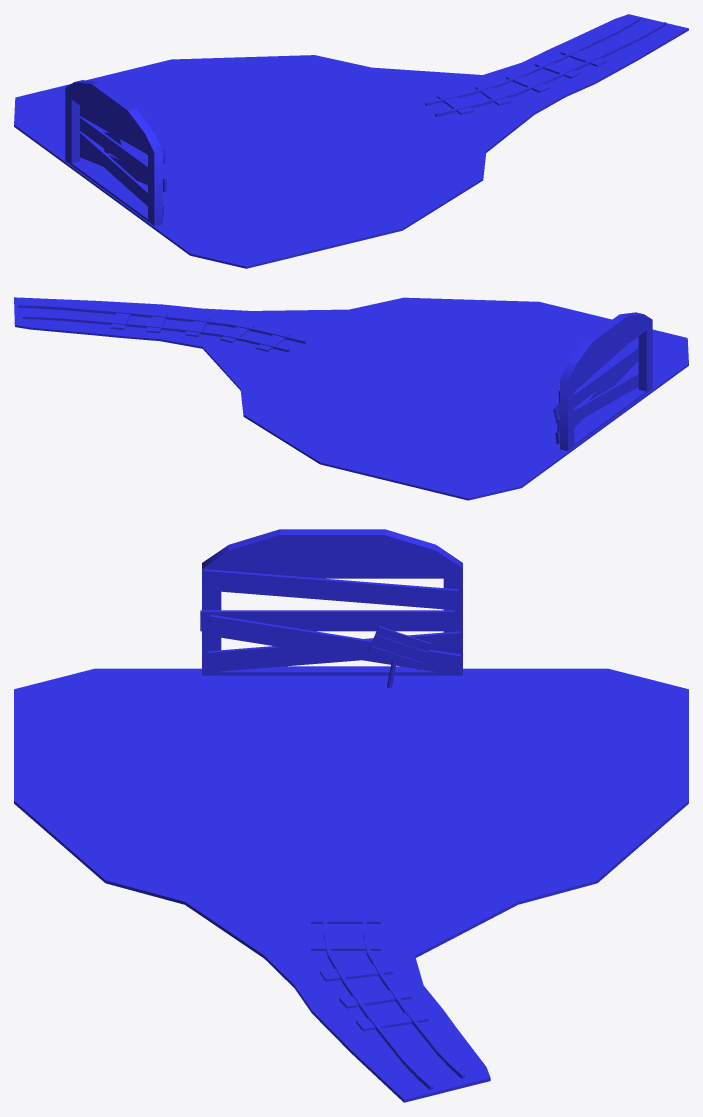
File: MINEFIN.fbx
3 views of the same model, one above another, from view 1: azimuth 30°, elevation 25°; view 2: azimuth 150°, elevation 25°; view 3: azimuth 270°, elevation 25° (orthographic). The views are drawn at different scales.
Parts seen in each view (by area): view 1: Box171, Box172, Box174, Box175, Box179, Box311, Box173, Box176; view 2: Box171, Box172, Box179, Box175, Box174, Box311, Box176; view 3: Box171, Box172, Box173, Box174, Box176, Box175, Box177, Box179, Box311.
Boxes of the visible parts, box(x1,y1,x2,y2) form: Box171: box(14, 14, 688, 268); Box172: box(65, 80, 162, 226); Box174: box(80, 116, 166, 192); Box175: box(80, 131, 164, 217); Box179: box(435, 22, 666, 116); Box311: box(425, 18, 640, 105); Box173: box(80, 106, 165, 163); Box176: box(80, 146, 165, 184); Box171: box(14, 297, 688, 500); Box172: box(560, 312, 652, 450); Box179: box(18, 304, 306, 343); Box175: box(557, 372, 638, 432); Box174: box(559, 346, 638, 415); Box311: box(22, 315, 289, 352); Box176: box(555, 347, 637, 444); Box171: box(14, 668, 688, 1102); Box172: box(202, 529, 462, 675); Box173: box(203, 569, 457, 610); Box174: box(200, 610, 454, 631); Box176: box(206, 614, 460, 675); Box175: box(207, 631, 462, 672); Box177: box(368, 626, 431, 670); Box179: box(323, 896, 433, 1089); Box311: box(363, 899, 465, 1078).
Size of the model in its own units: 2306 by 358 by 1526.
